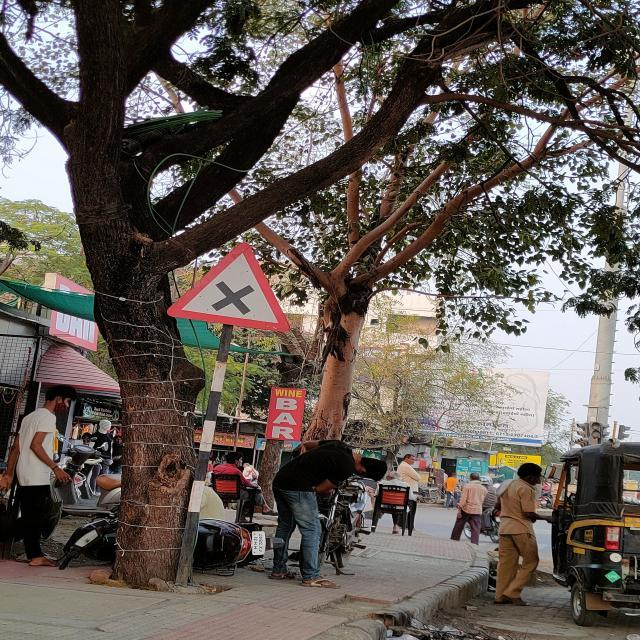cross road: (157, 234, 294, 340)
